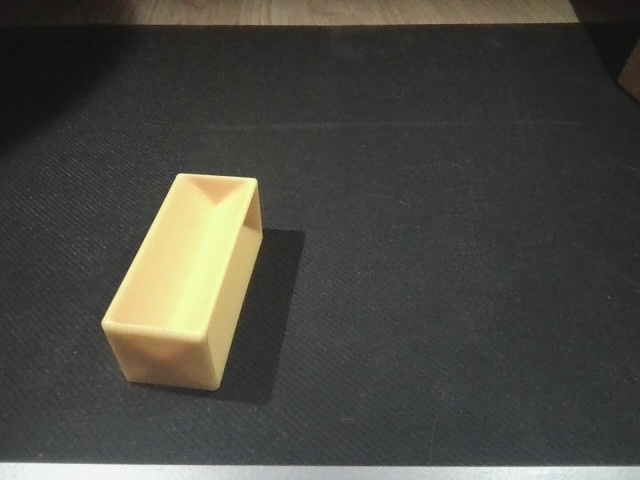YellowSample: (101, 170, 272, 395)
